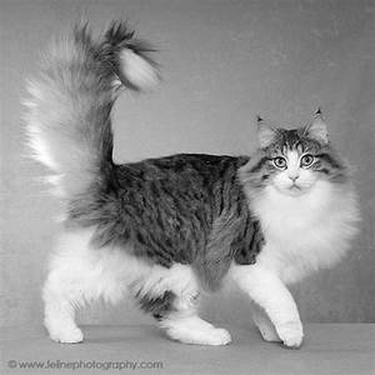cat: (25, 17, 358, 349)
